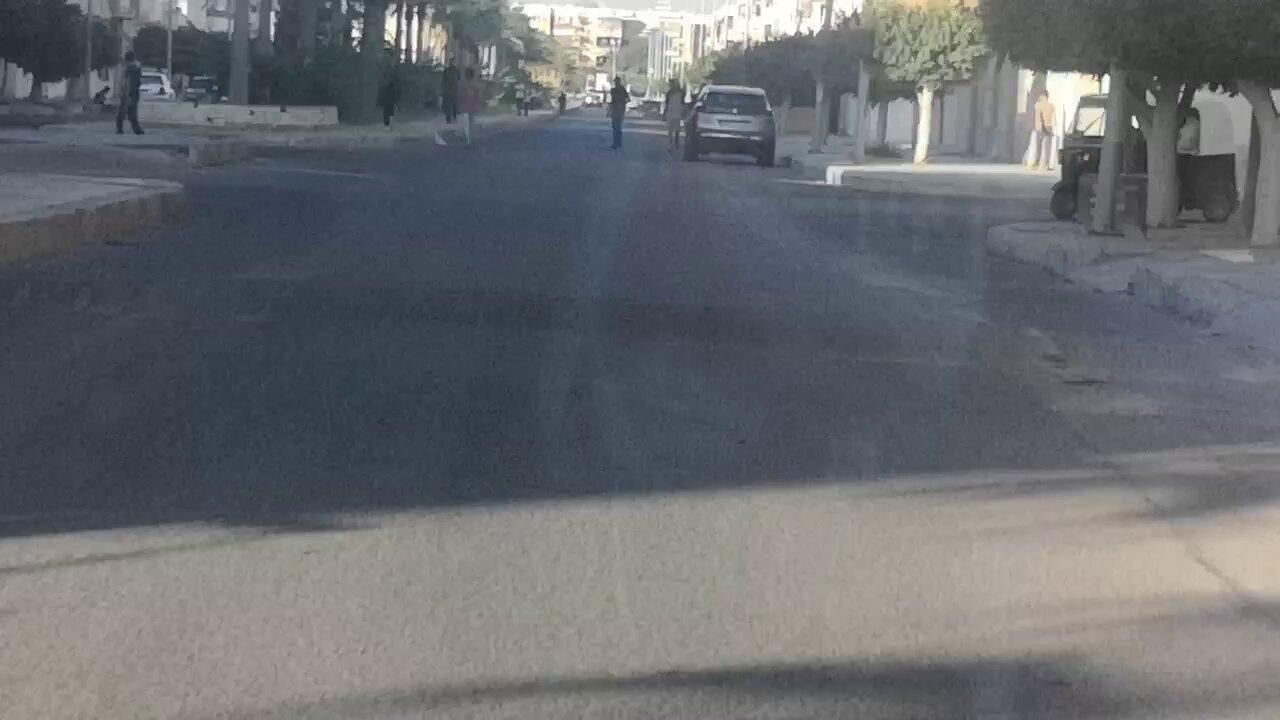Bump: (8, 253, 980, 382)
